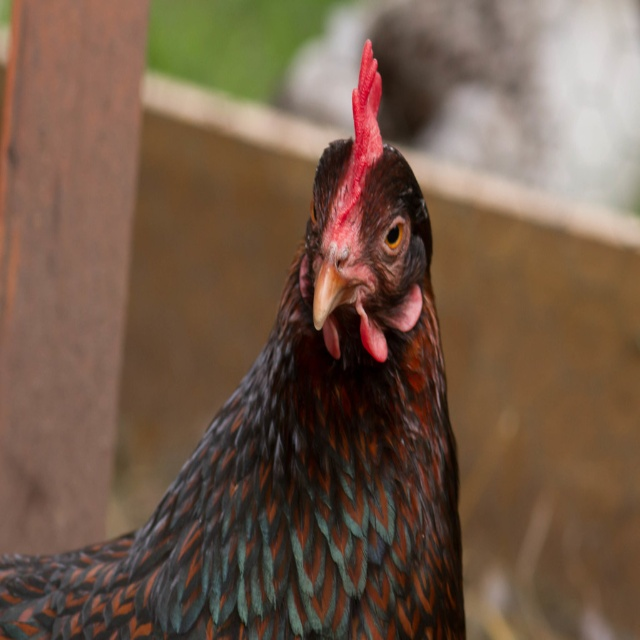Chicken: (58, 87, 462, 640)
